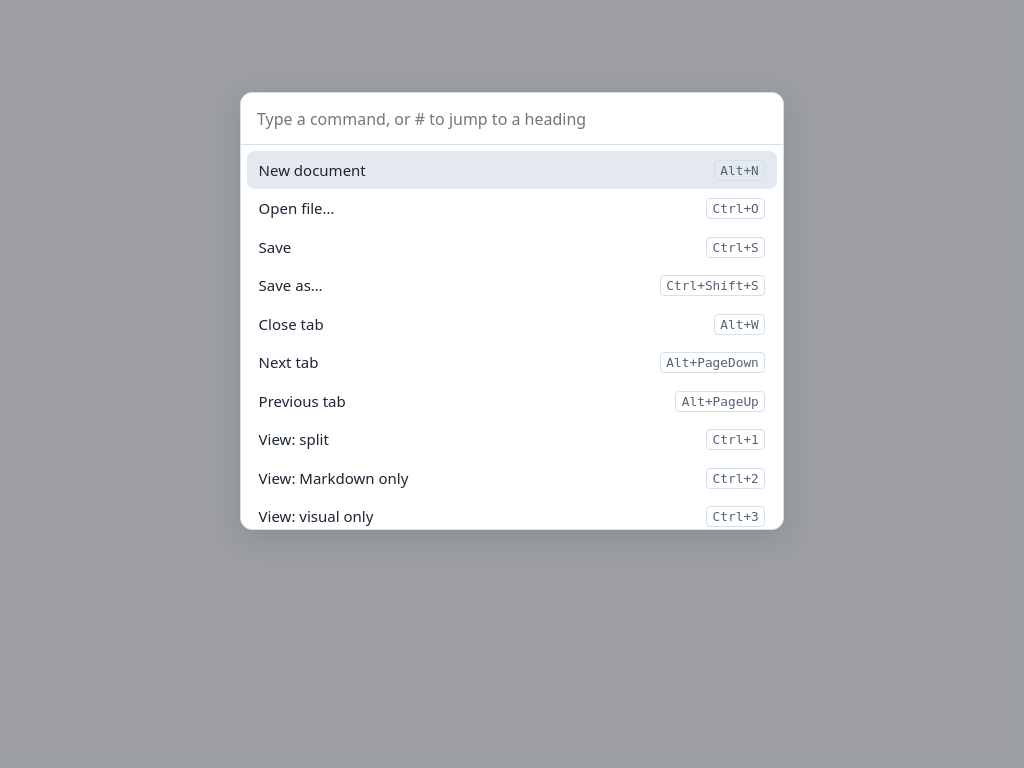
Scenario: CommandPalette › “Go to heading…” switches the palette to headings
The width and height of the screenshot is (1024, 768).
Type "go to heading" into the dropdown named "Commands" at (512, 119), box left=241, top=93, right=783, bottom=145
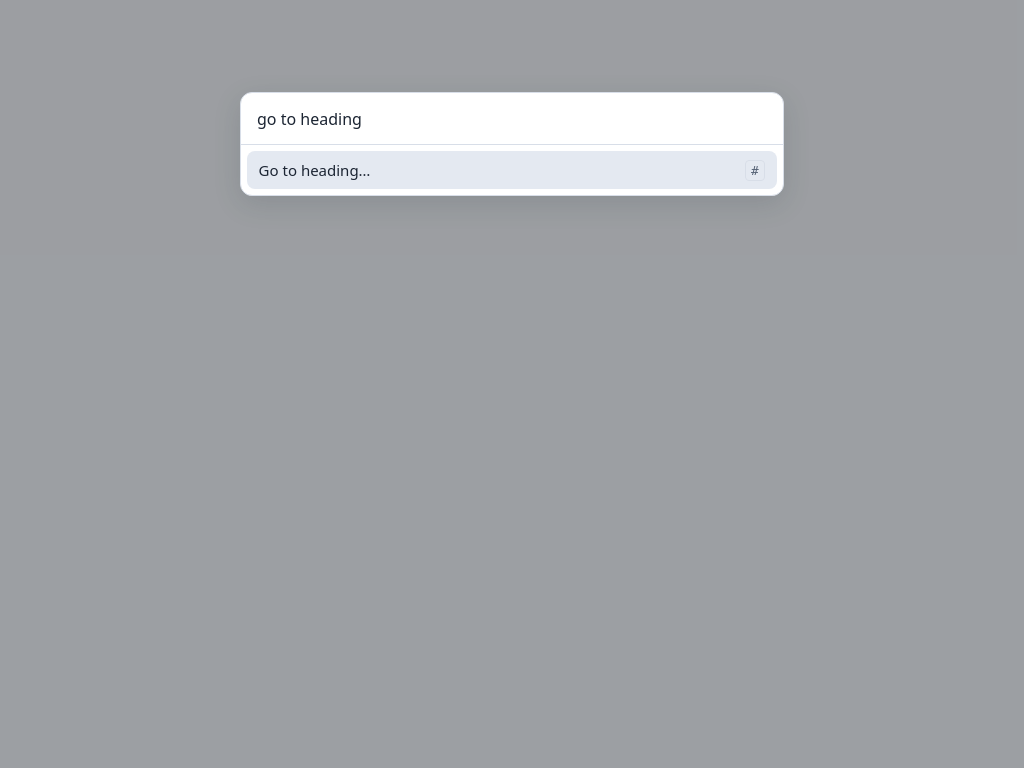
Press Enter in the dropdown named "Commands", box left=241, top=93, right=783, bottom=145
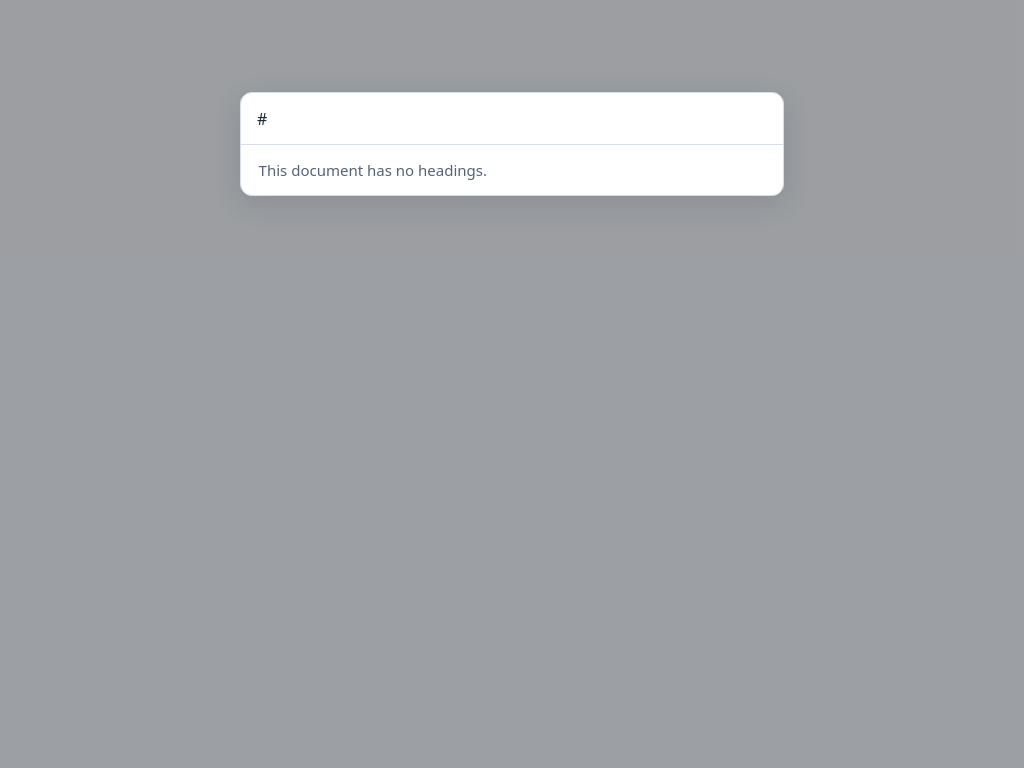
expect the dropdown named "Commands" holds "#": met, box left=241, top=93, right=783, bottom=145
expect the text "This document has no headings." is shown: met, box left=259, top=160, right=487, bottom=180
